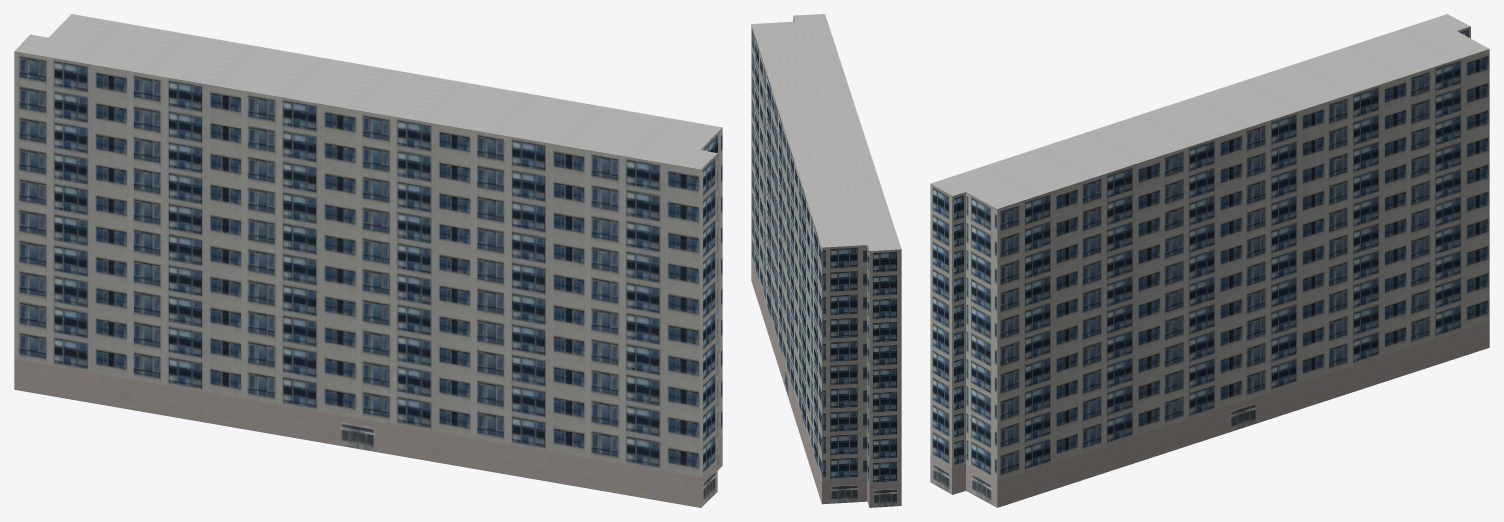
3 views of the same model, side by side, from view 1: azimuth 30°, elevation 25°; view 2: azimuth 150°, elevation 25°; view 3: azimuth 270°, elevation 25° (orthographic). The views are drawn at different scales.
Visible parts, largest first — view 1: BuildingMaster_1977193954334462474400000000_0, BuildingMaster_1977193954334462474400000000_1; view 2: BuildingMaster_1977193954334462474400000000_0, BuildingMaster_1977193954334462474400000000_1; view 3: BuildingMaster_1977193954334462474400000000_0, BuildingMaster_1977193954334462474400000000_1.
Part boxes in pixels (box(x1,y1,x2,y2)): BuildingMaster_1977193954334462474400000000_0: box(14, 51, 722, 507); BuildingMaster_1977193954334462474400000000_1: box(15, 14, 721, 169); BuildingMaster_1977193954334462474400000000_0: box(751, 16, 901, 507); BuildingMaster_1977193954334462474400000000_1: box(751, 14, 901, 251); BuildingMaster_1977193954334462474400000000_0: box(930, 26, 1489, 507); BuildingMaster_1977193954334462474400000000_1: box(930, 14, 1488, 209).
Bounding box in the file's own units: 53.97 × 38.5 × 65.35.
2 materials, 2 textured.
